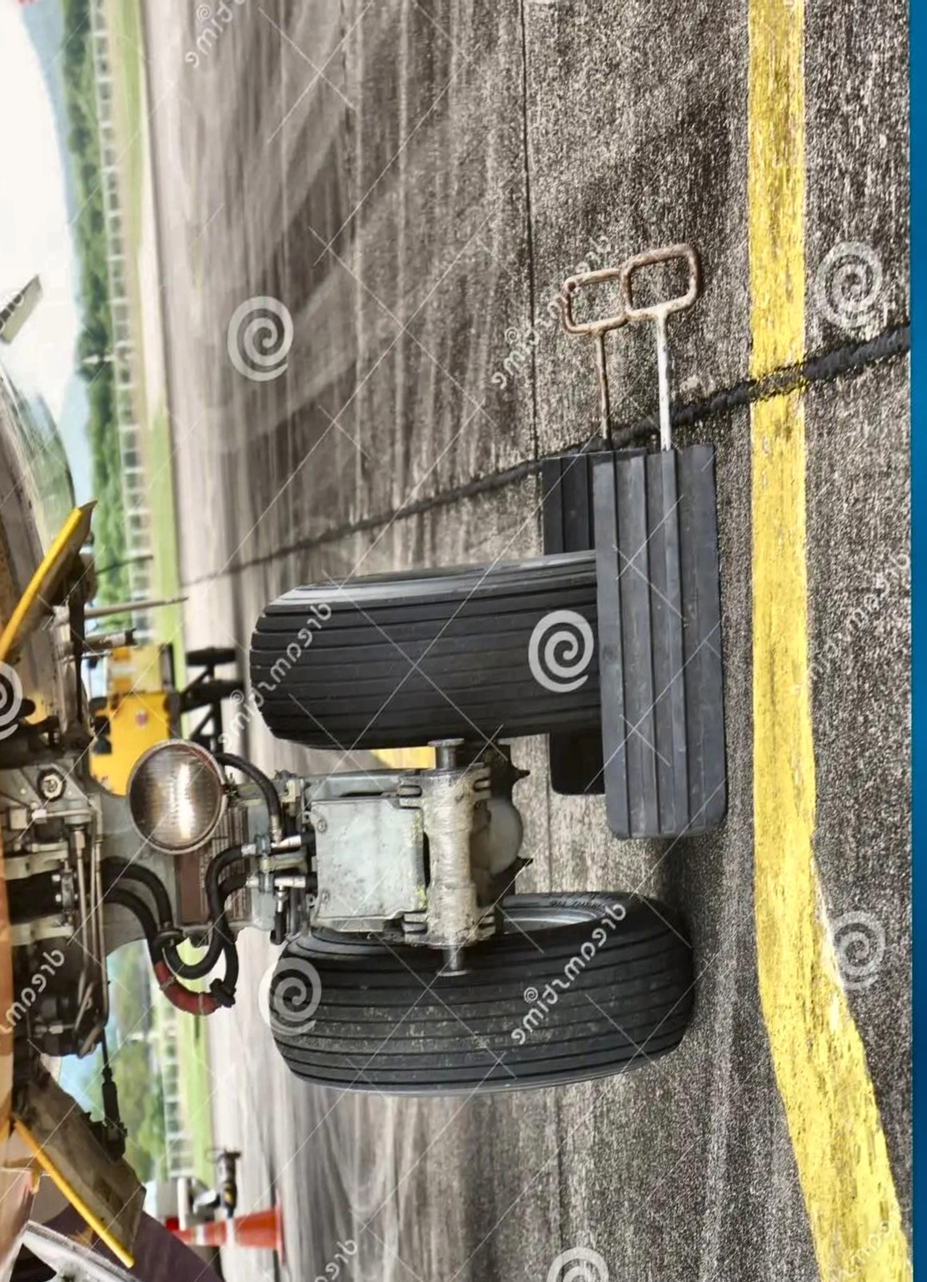chock: (594, 438, 723, 850), (534, 437, 606, 806)
wheel: (268, 875, 688, 1103), (243, 554, 599, 765)
